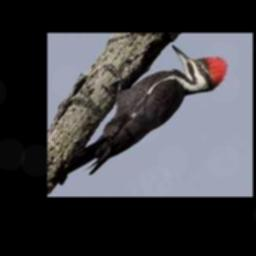Woodpecker: (49, 45, 228, 185)
